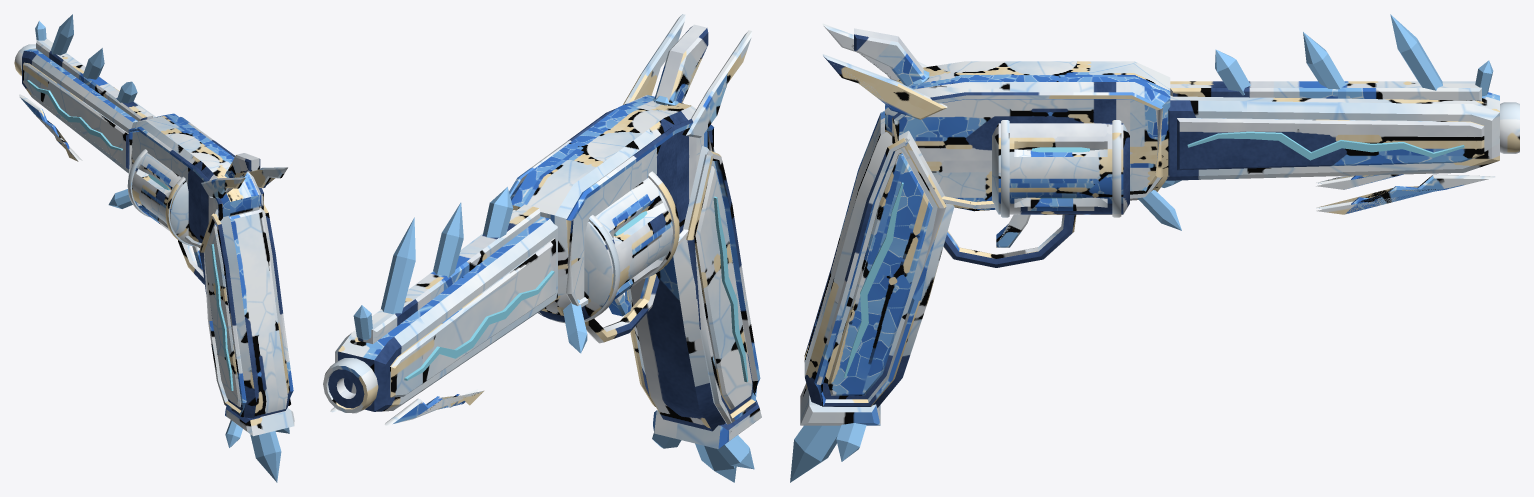
The model's file is Ice_Revolver.fbx.
The picture shows the model from 3 angles, left to right: view 1: azimuth 30°, elevation 25°; view 2: azimuth 150°, elevation 25°; view 3: azimuth 270°, elevation 25°; orthographic projection. The views are drawn at different scales.
Parts seen in each view (by area): view 1: Ice_Revolver_Grip, Ice_Revolver_Trim, Ice_Revolver_Barrel, Ice_Revolver_Frame, Ice_Revolver_Crystals, Ice_Revolver_Cylinder, Ice_Revolver_Glow; view 2: Ice_Revolver_Barrel, Ice_Revolver_Grip, Ice_Revolver_Trim, Ice_Revolver_Frame, Ice_Revolver_Crystals, Ice_Revolver_Cylinder, Ice_Revolver_Glow; view 3: Ice_Revolver_Barrel, Ice_Revolver_Grip, Ice_Revolver_Frame, Ice_Revolver_Trim, Ice_Revolver_Cylinder, Ice_Revolver_Crystals, Ice_Revolver_Glow.
Part boxes in pixels (x1,y1,x2,y2): Ice_Revolver_Grip: (192, 153, 290, 418); Ice_Revolver_Trim: (14, 44, 294, 436); Ice_Revolver_Barrel: (22, 38, 155, 173); Ice_Revolver_Frame: (131, 113, 261, 248); Ice_Revolver_Crystals: (35, 14, 289, 482); Ice_Revolver_Cylinder: (132, 153, 191, 244); Ice_Revolver_Glow: (27, 80, 233, 390); Ice_Revolver_Barrel: (328, 204, 557, 411); Ice_Revolver_Grip: (609, 24, 753, 431); Ice_Revolver_Trim: (323, 14, 761, 448); Ice_Revolver_Frame: (510, 95, 707, 315); Ice_Revolver_Crystals: (353, 96, 754, 482); Ice_Revolver_Cylinder: (538, 177, 672, 321); Ice_Revolver_Glow: (404, 196, 748, 382); Ice_Revolver_Barrel: (1166, 81, 1499, 180); Ice_Revolver_Grip: (804, 28, 1030, 407); Ice_Revolver_Frame: (885, 61, 1170, 211); Ice_Revolver_Trim: (800, 23, 1519, 425); Ice_Revolver_Cylinder: (992, 123, 1129, 214); Ice_Revolver_Crystals: (790, 14, 1493, 482); Ice_Revolver_Glow: (844, 131, 1464, 377).
Bounding box in the file's own units: 28.4 × 116 × 164.
Materials: 3 (1 with a texture image).
